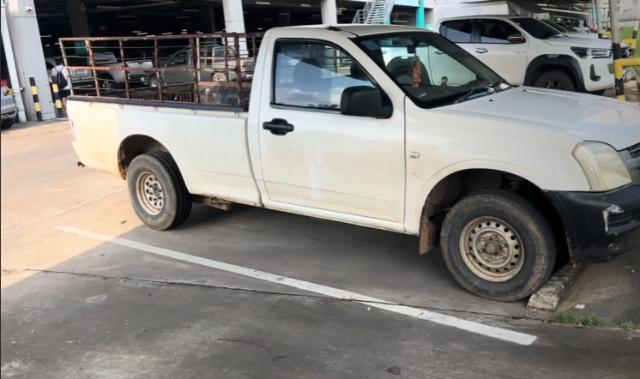pickup-truck: (52, 23, 640, 301)
